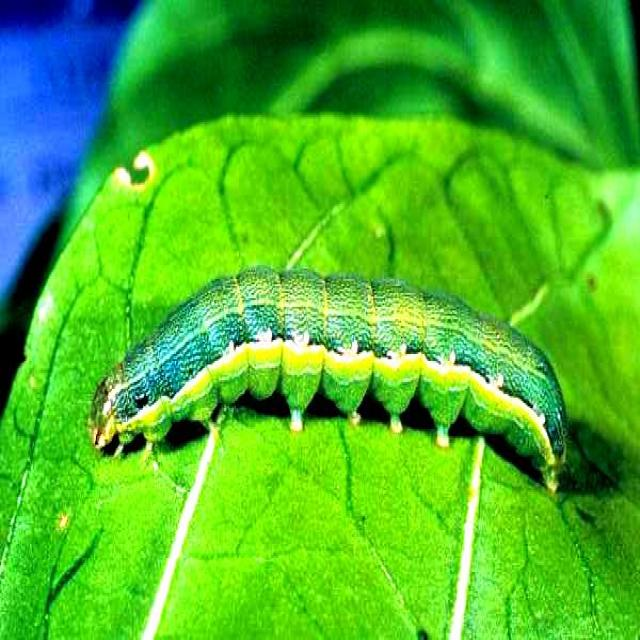armyworm: (86, 262, 572, 497)
